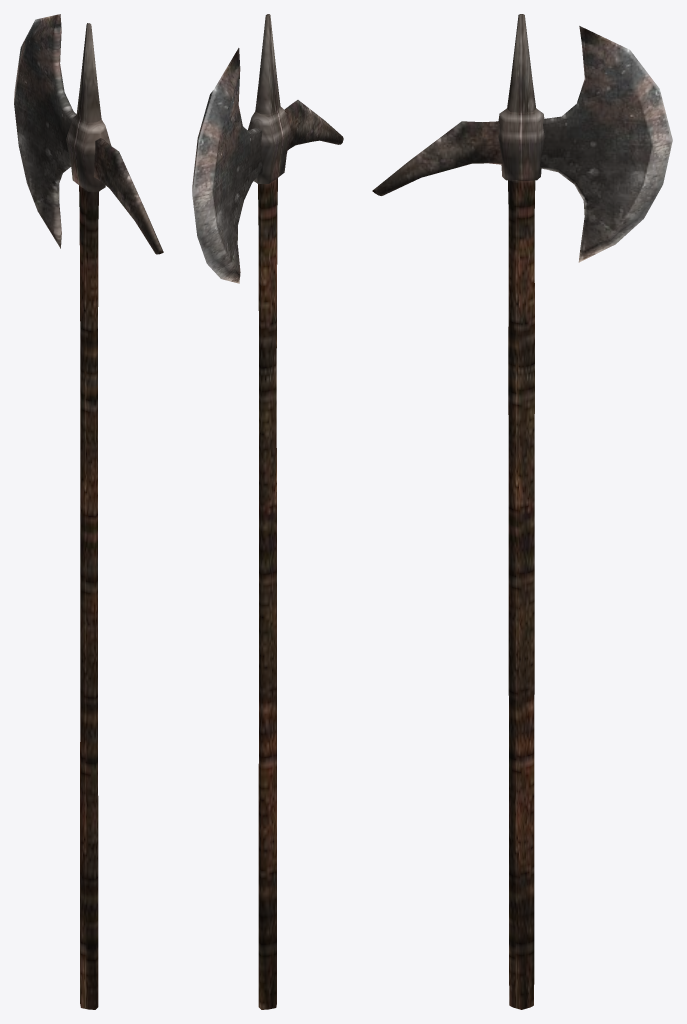
Rendered from weapons_longw00.glb.
3 views of the same model, side by side, from view 1: azimuth 30°, elevation 25°; view 2: azimuth 150°, elevation 25°; view 3: azimuth 270°, elevation 25° (orthographic).
Parts seen in each view (by area): view 1: longw00; view 2: longw00; view 3: longw00.
Boxes of the visible parts, bbox=[...] form: longw00: bbox=[14, 14, 163, 1009]; longw00: bbox=[192, 14, 343, 1009]; longw00: bbox=[372, 14, 672, 1009].
Size of the model in its own units: 0.0542 by 1.7 by 0.4665.
1 material, 1 textured.
